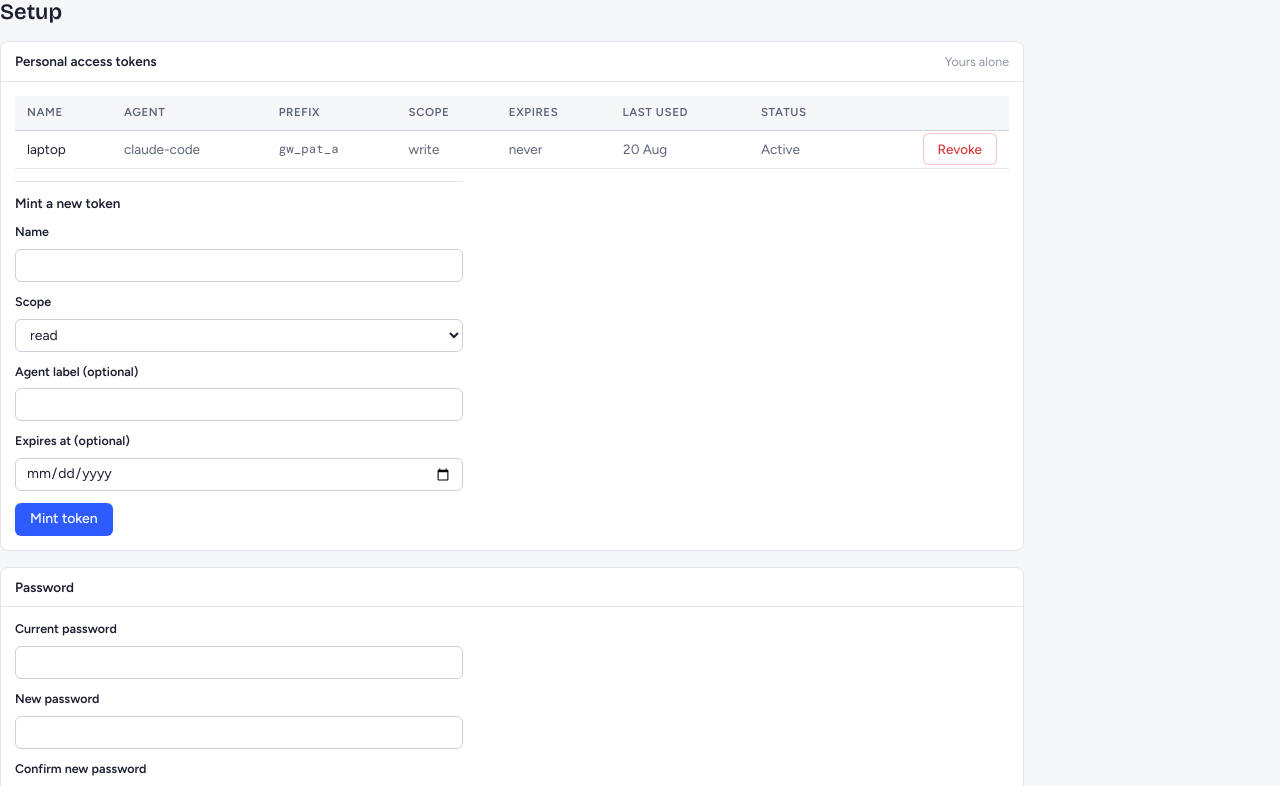
Test: SetupPage › Personal access tokens › mints with an agent label and sends it in the body
The image size is (1280, 786).
Type "claude desktop" into the field labelled "Name". click: (239, 265)
box: x1=15 y1=249 x2=463 y2=282
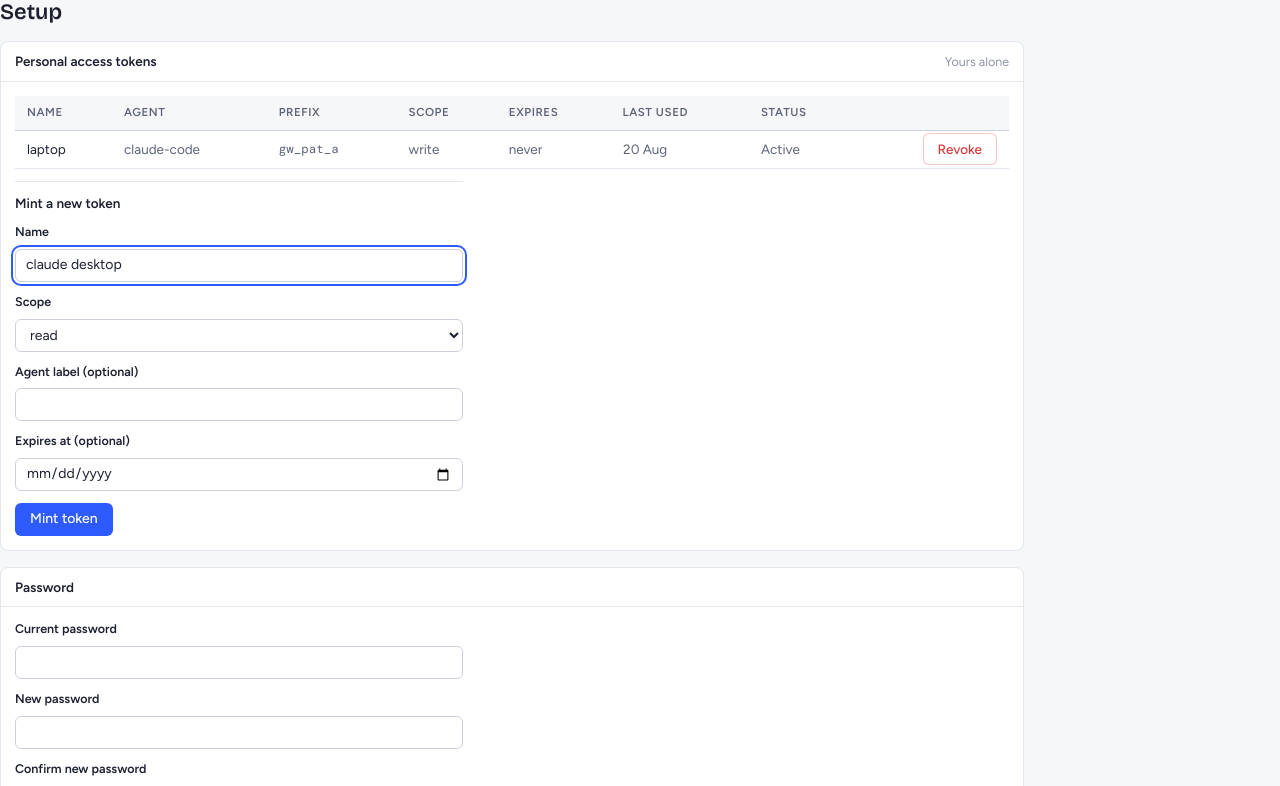
Type "claude-desktop" into the field labelled "Agent label (optional)". click: (239, 405)
box: x1=15 y1=388 x2=463 y2=421
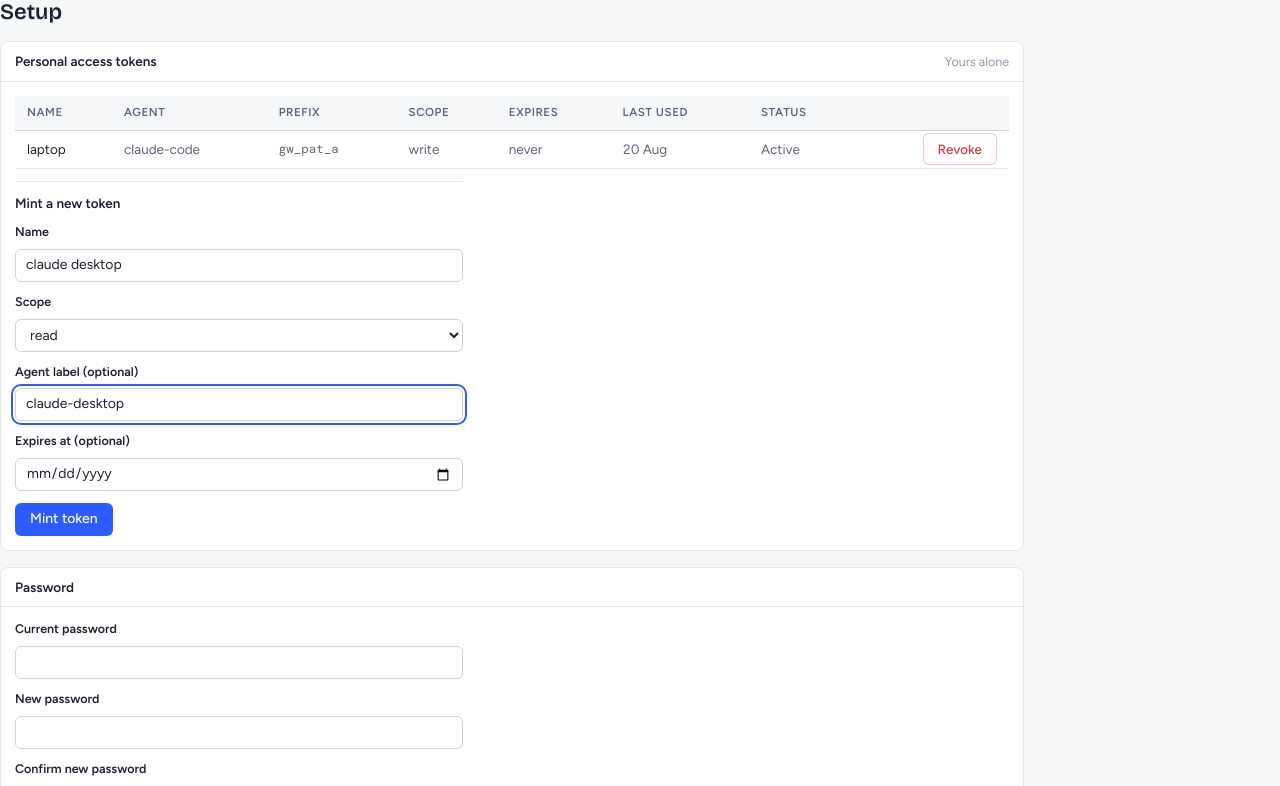
Click the button "Mint token". click: click(64, 520)
box: x1=15 y1=503 x2=113 y2=536
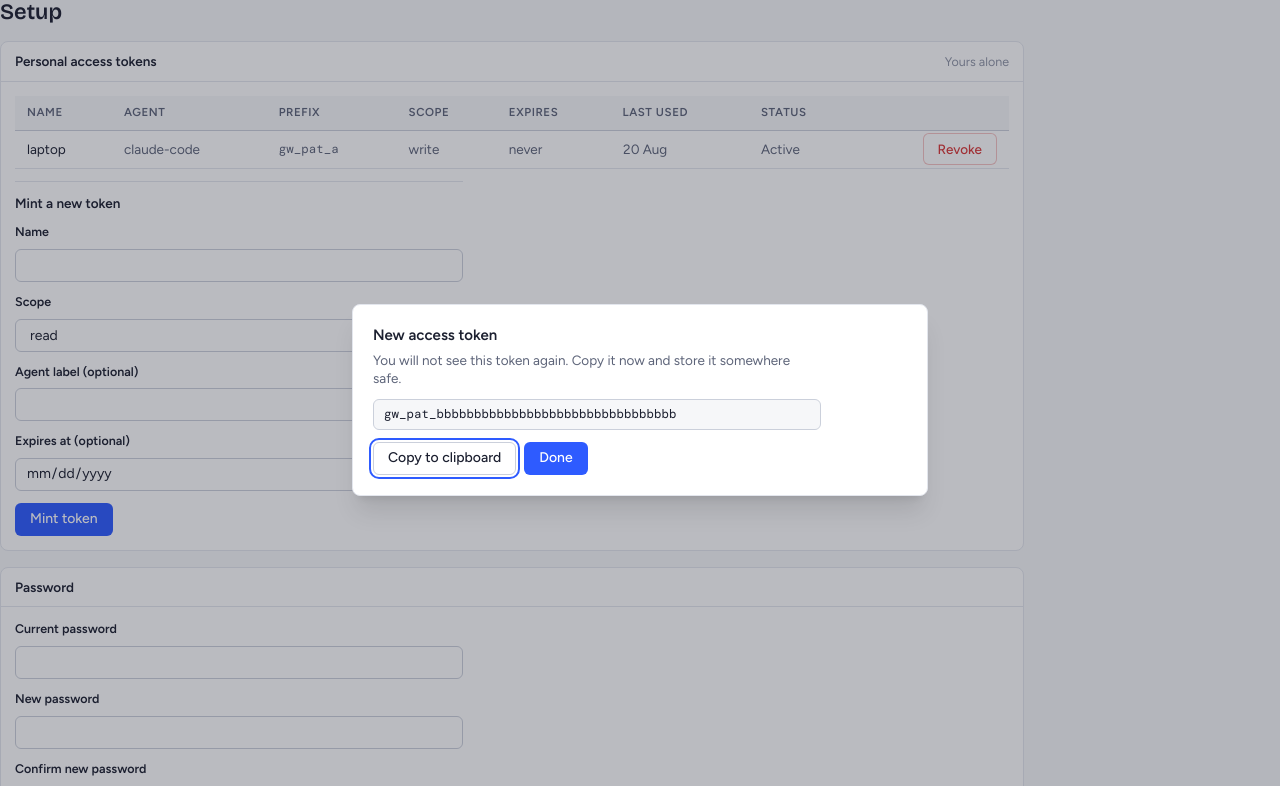
Expected: the dialog with test id "minted-token-dialog" is shown, x1=352 y1=304 x2=928 y2=496
